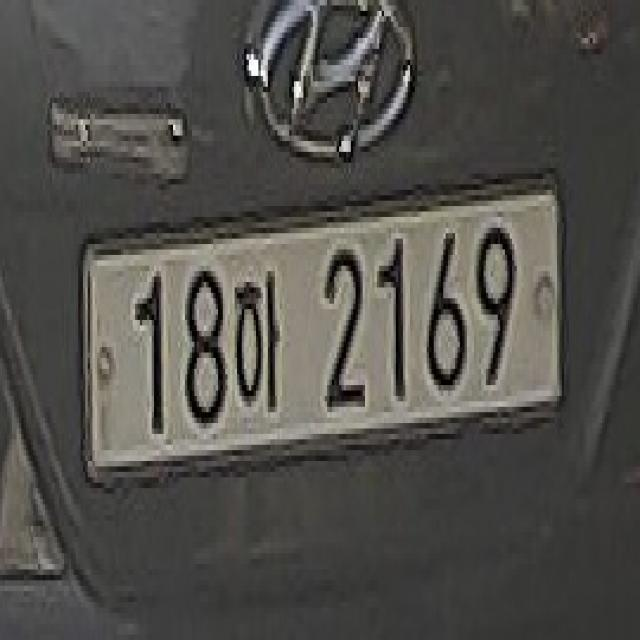1: (130, 260, 173, 456), (372, 222, 415, 418)
2: (322, 233, 370, 423)
6: (422, 217, 469, 407)
8: (180, 255, 230, 445)
9: (474, 206, 519, 396)
ha: (232, 255, 284, 423)
license_plate: (71, 157, 576, 510)
